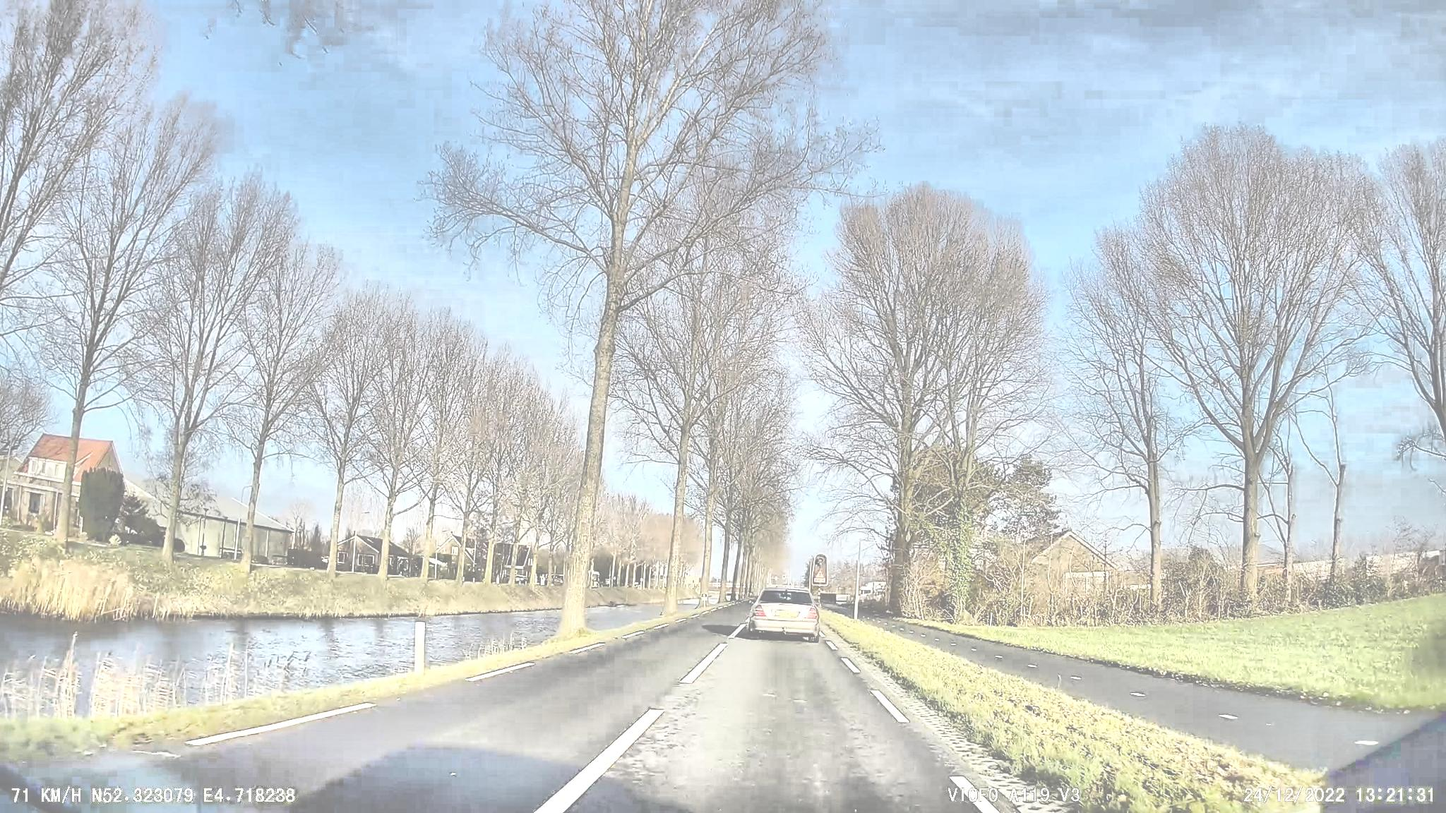Roads: (0, 597, 1077, 813)
